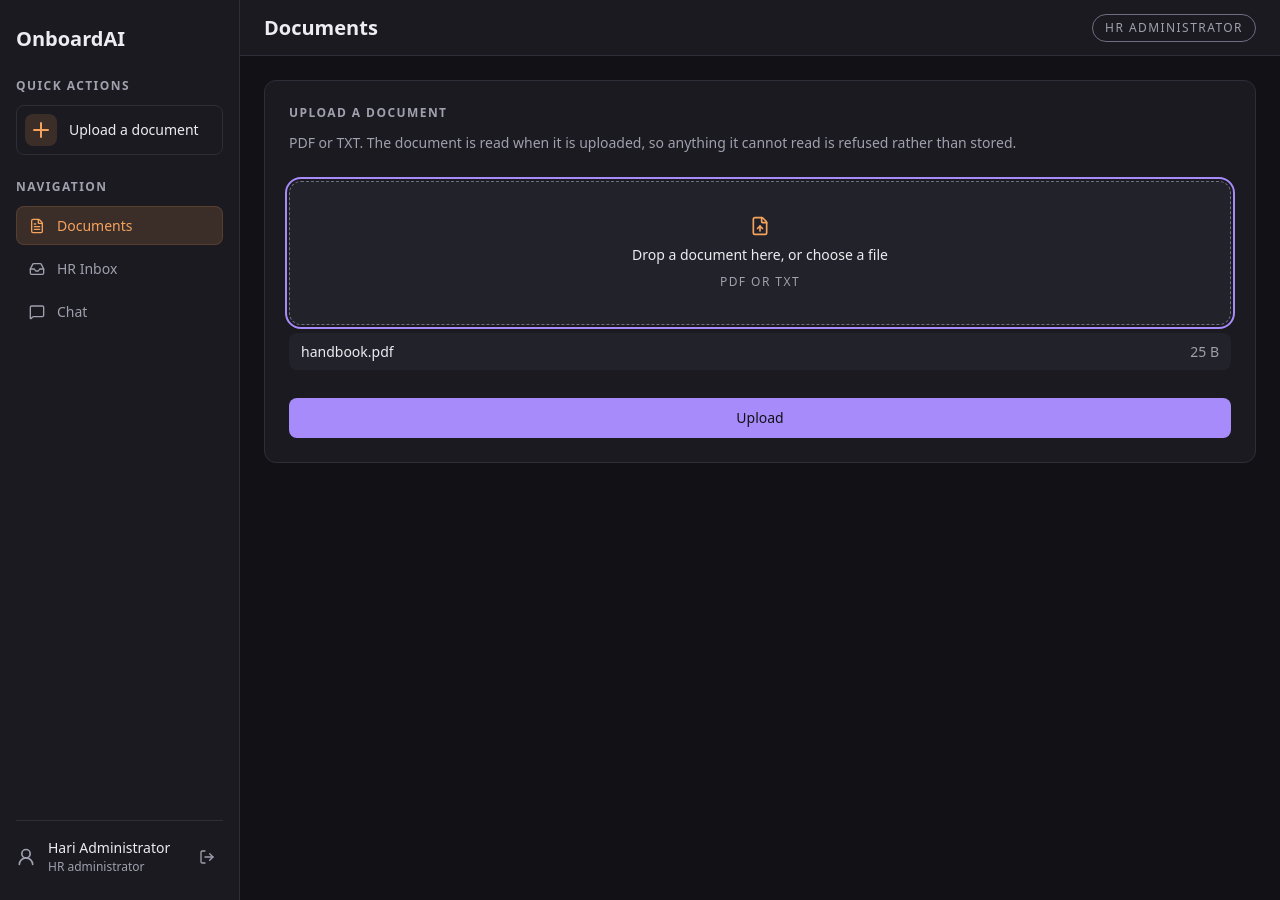
Test case: while it is uploading › cannot be uploaded again while it is in flight
The width and height of the screenshot is (1280, 900).
Earlier steps of the test are not shown.
Click the button "Upload" at x=760, y=418, box [289,398,1231,438]
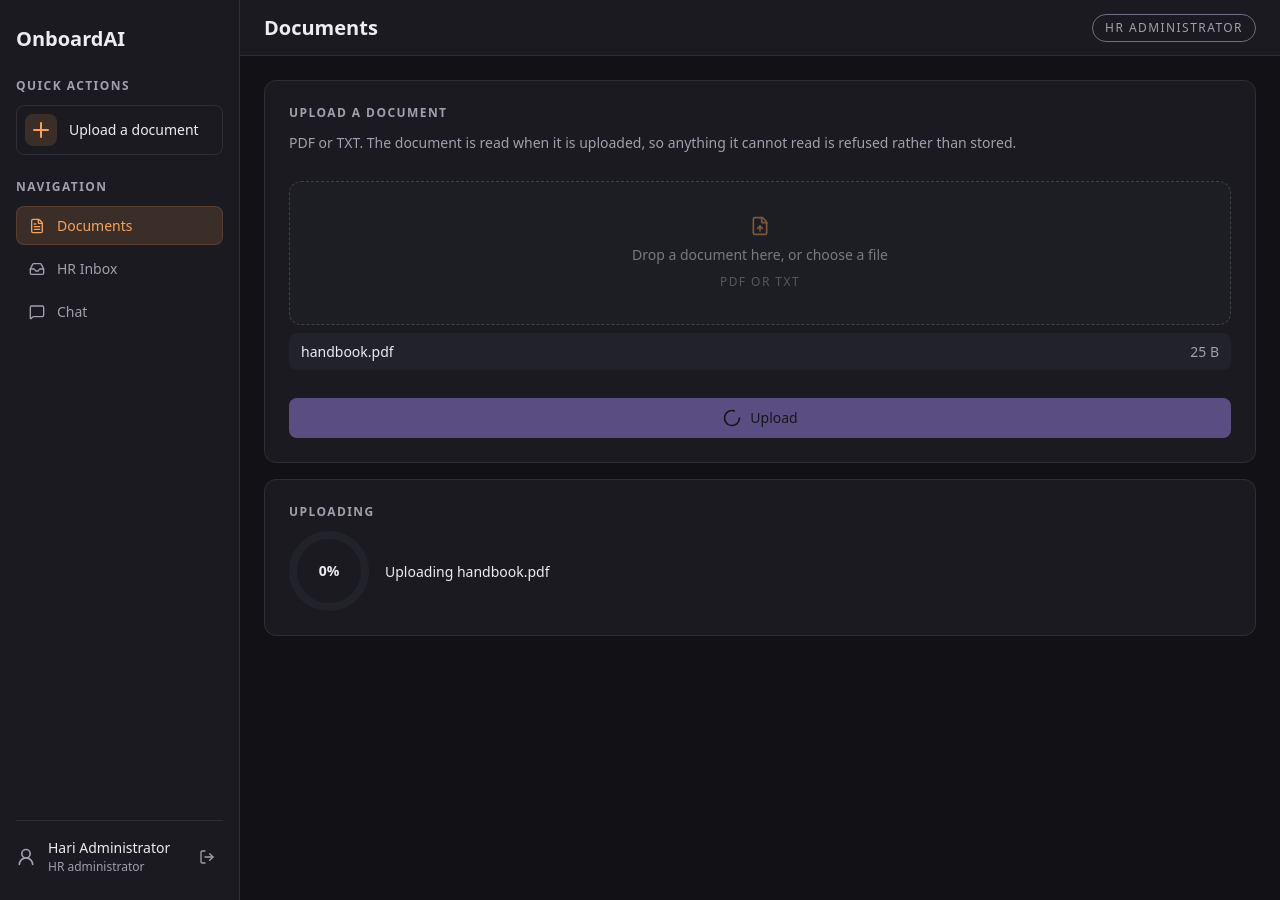
Expected: the button "Upload" is disabled, [289,398,1231,438]
